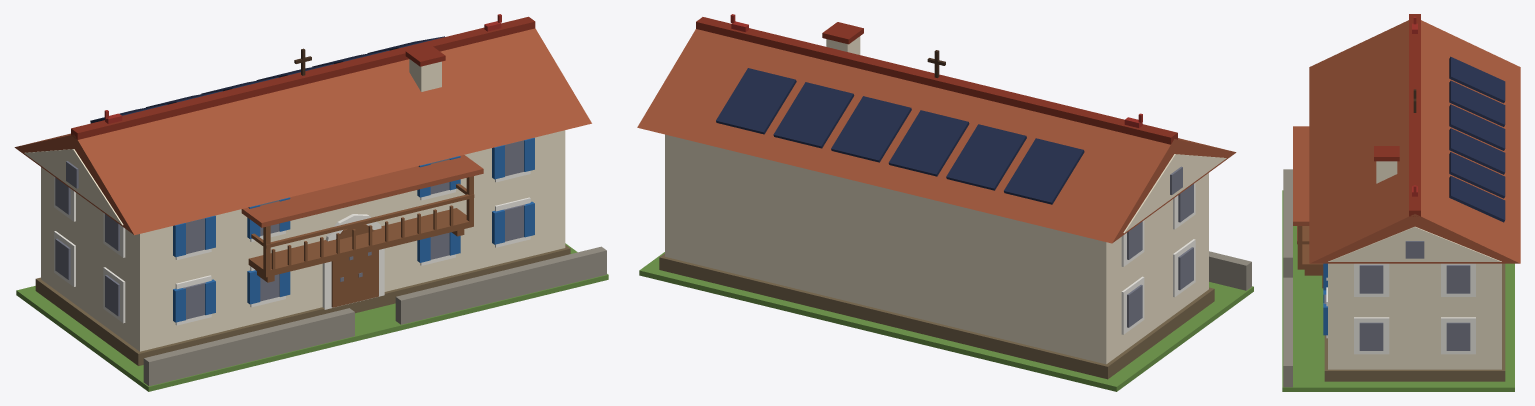
Rendered from house-2x1-2f-third-andean-a-solar.glb.
The picture shows the model from 3 angles, left to right: view 1: azimuth 30°, elevation 25°; view 2: azimuth 150°, elevation 25°; view 3: azimuth 270°, elevation 25°; orthographic projection. The views are drawn at different scales.
Visible parts, largest first — view 1: house-2x1-2f-third-andean-a-solar; view 2: house-2x1-2f-third-andean-a-solar; view 3: house-2x1-2f-third-andean-a-solar.
Part boxes in pixels (left/top/right/bottom): house-2x1-2f-third-andean-a-solar: left=14, top=14, right=608, bottom=391; house-2x1-2f-third-andean-a-solar: left=637, top=14, right=1253, bottom=391; house-2x1-2f-third-andean-a-solar: left=1282, top=14, right=1520, bottom=391.
Bounding box in the file's own units: 2.01 × 0.955 × 1.01.
Materials: 1 (1 with a texture image).
